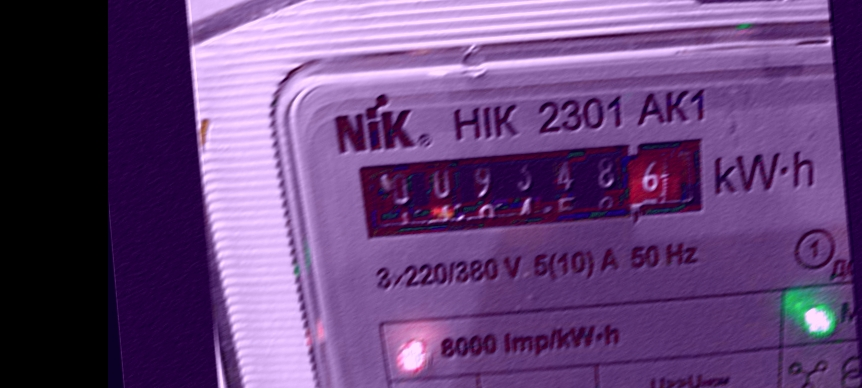0: (430, 164, 454, 202), (389, 170, 412, 206)
3: (512, 158, 537, 192)
4: (552, 155, 576, 194)
6: (639, 157, 664, 193)
8: (595, 153, 618, 189)
9: (473, 162, 494, 197)
screen: (336, 121, 728, 256)
